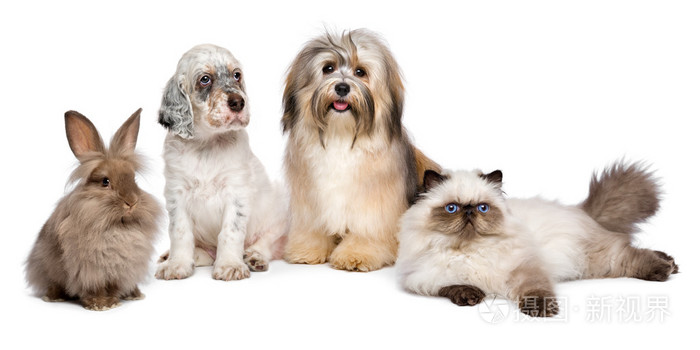cat: (393, 160, 694, 324)
dog: (281, 21, 441, 276), (154, 42, 282, 288)
rabbit: (12, 105, 164, 314)
